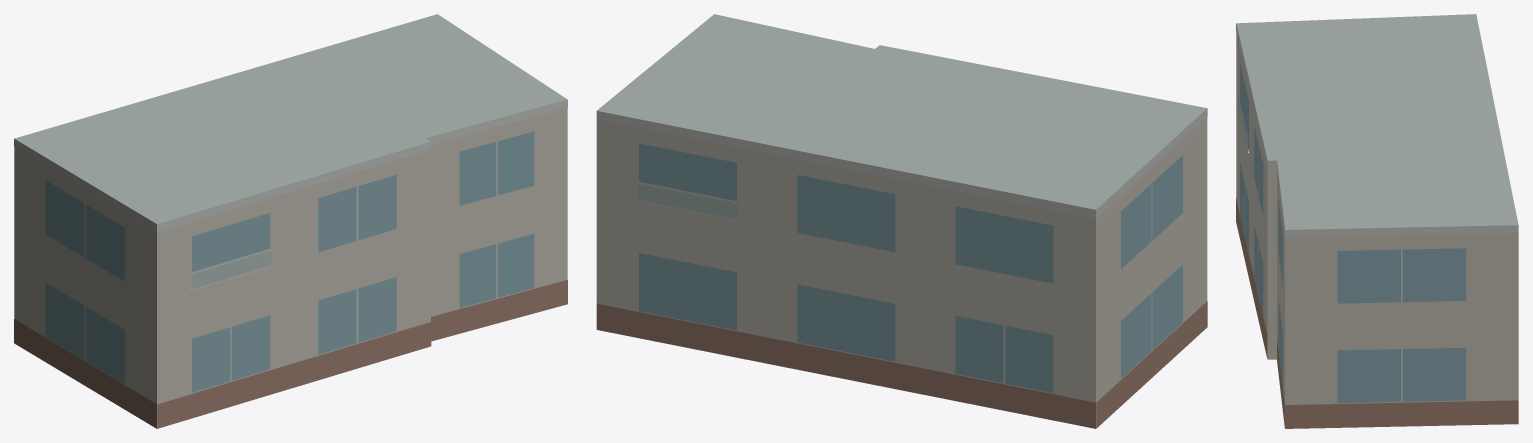
File: survey-upis-32661579.glb
3 renders of one model, left to right at view 1: azimuth 30°, elevation 25°; view 2: azimuth 150°, elevation 25°; view 3: azimuth 270°, elevation 25°, orthographic. The views are drawn at different scales.
Visible parts, largest first — view 1: survey-upis-32661579.tmp; view 2: survey-upis-32661579.tmp; view 3: survey-upis-32661579.tmp.
Boxes of the visible parts, <box> form: survey-upis-32661579.tmp: <box>14,14,567,428</box>; survey-upis-32661579.tmp: <box>596,14,1207,428</box>; survey-upis-32661579.tmp: <box>1236,14,1518,428</box>.
Bounding box in the file's own units: 14.21 × 6.1 × 7.86.
